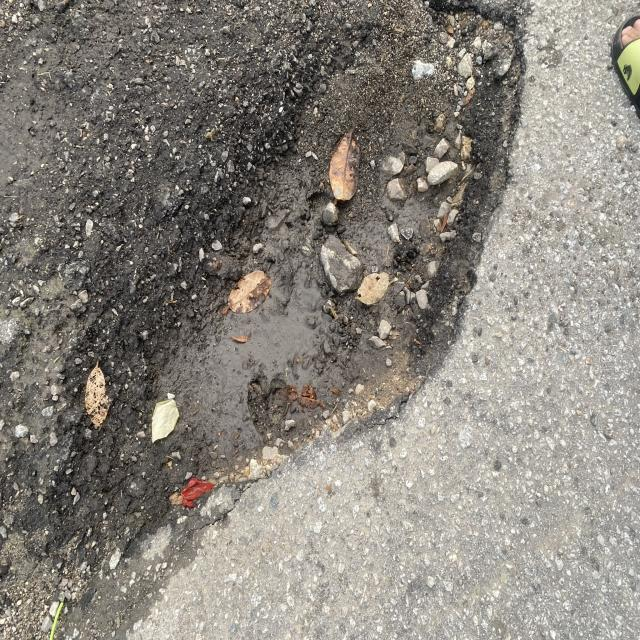pothole: (235, 31, 544, 461)
